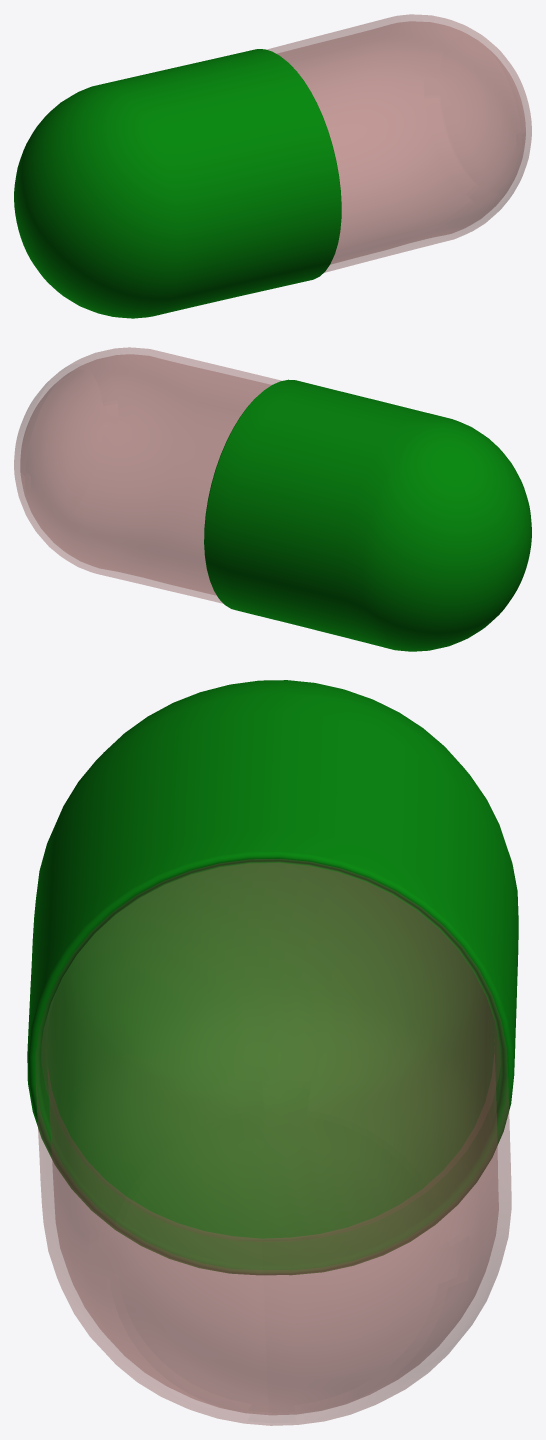
File: pill.glb
3 views of the same model, one above another, from view 1: azimuth 30°, elevation 25°; view 2: azimuth 150°, elevation 25°; view 3: azimuth 270°, elevation 25° (orthographic). The views are drawn at different scales.
Visible parts, largest first — view 1: merge11_2_0, merge11_2_0.001; view 2: merge11_2_0, merge11_2_0.001; view 3: merge11_2_0, merge11_2_0.001.
Boxes of the visible parts, bbox=[...] form: merge11_2_0: bbox=[14, 49, 341, 318]; merge11_2_0.001: bbox=[267, 14, 531, 272]; merge11_2_0: bbox=[204, 379, 531, 651]; merge11_2_0.001: bbox=[14, 347, 281, 603]; merge11_2_0: bbox=[27, 680, 518, 1274]; merge11_2_0.001: bbox=[35, 859, 511, 1425].
Bounding box in the file's own units: 5.26 × 2.21 × 2.3.
